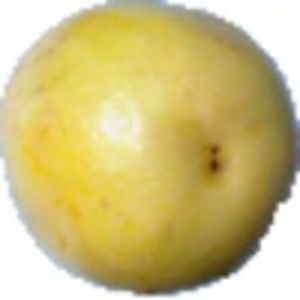maracujá: (1, 1, 300, 299)
